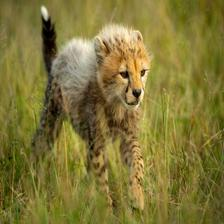Cheetah: (26, 8, 154, 216)
